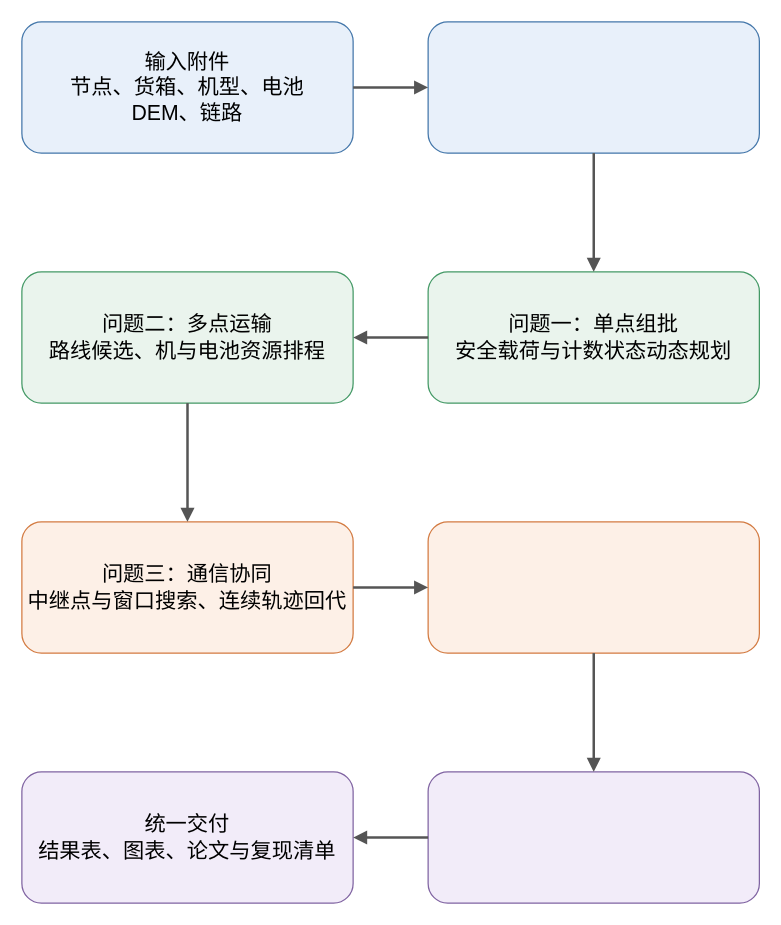
The diagram is 781 pixels wide and 925 high, and some of its shapes have lost their labels. The box of each missing label's shape, as (x1, y1, x2, y2) in pixels:
统一物理规则 航段时间、能耗、充电与双向链路: (427, 21, 759, 153)
逐项验证 唯一覆盖、SOC、时限 通信、敏感性: (427, 771, 759, 903)
问题四：独立分区 不可拆组件枚举、资源峰值与缺口: (427, 521, 759, 653)
